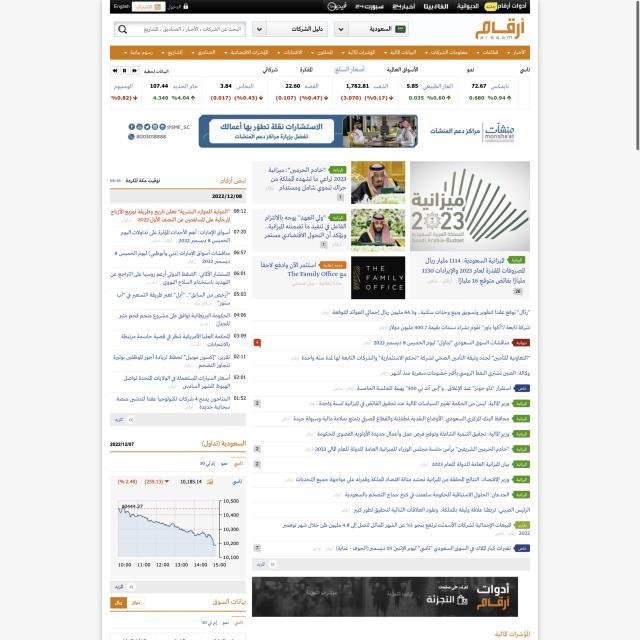input: (115, 21, 246, 37)
logo: (470, 15, 530, 42)
navigation: (109, 45, 530, 59), (261, 65, 531, 75), (324, 0, 529, 13)
